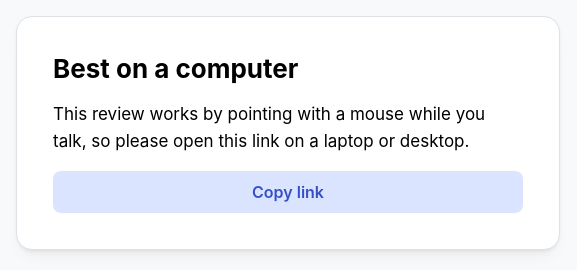
Test case: MobileBlock › asks for a computer and copies the link
Expected: the element with test id "mobile-block" shows "Best on a computer", [53,53,298,84]
Expected: the element with test id "mobile-block" shows "This review works by pointing with a mouse while you talk, so please open this link on a laptop or desktop.", [53,104,485,151]
Click the button with test id "mobile-copy-link" at (288, 192), box [53,171,523,213]
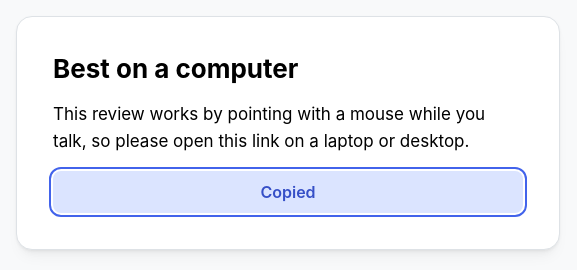
Result: the text "Copied" is shown at [260,184,316,200]
